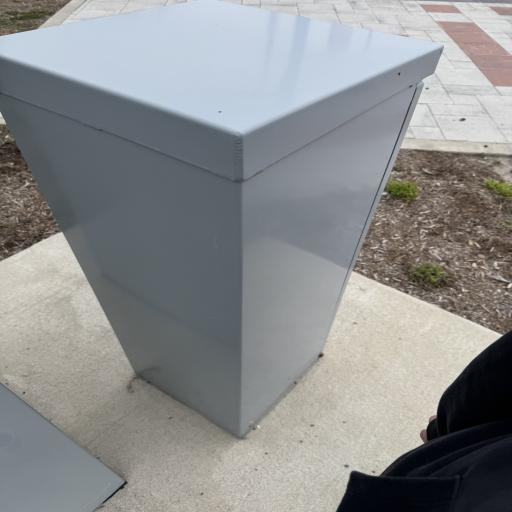Electrical Box: (0, 0, 427, 432)
